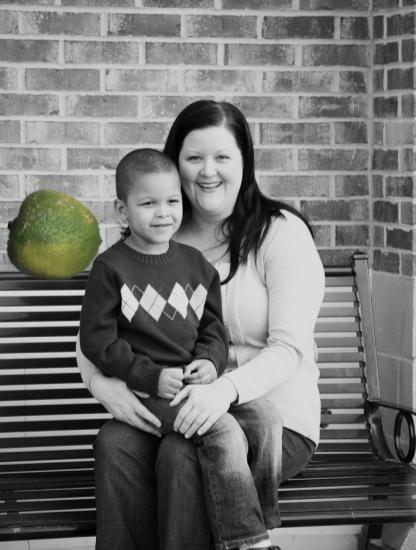Limes: (7, 189, 103, 285)
